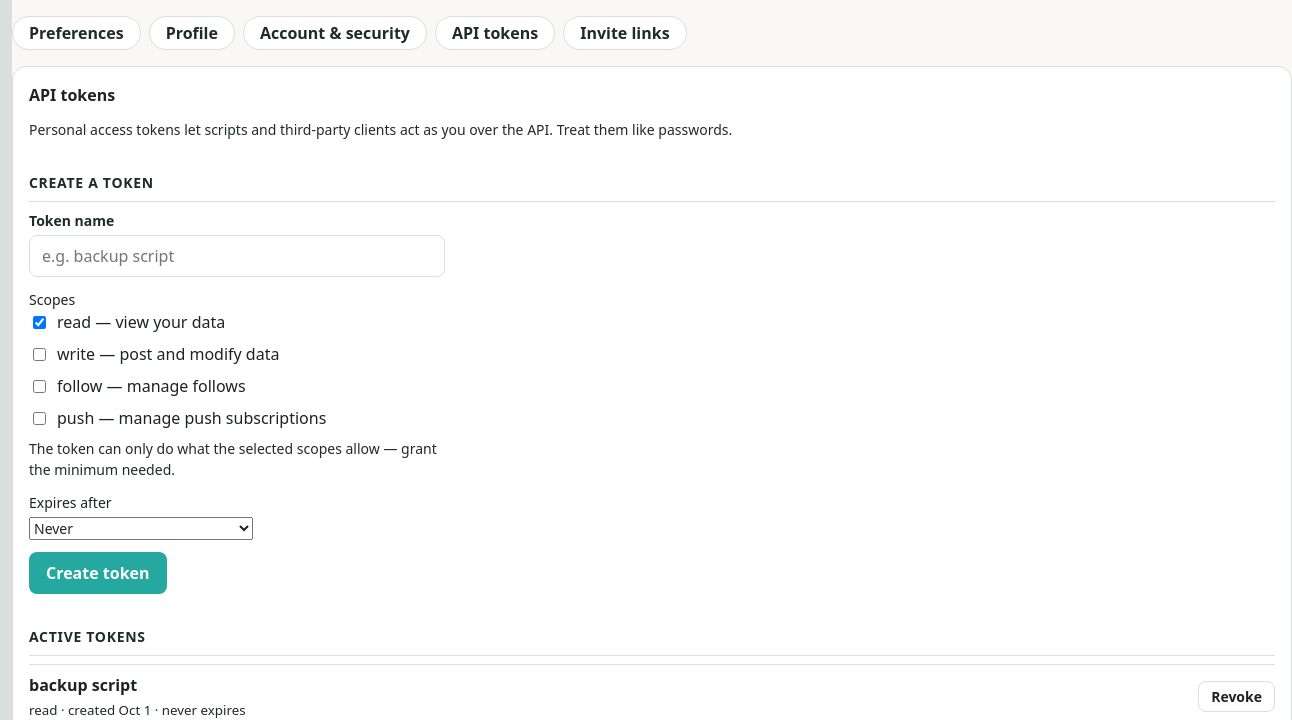
TokensSettingsPage › creates a token and reveals the plaintext once
Type "ci" into the field labelled "Token name".
click(237, 256); type("ci")  # box x1=29 y1=235 x2=445 y2=277
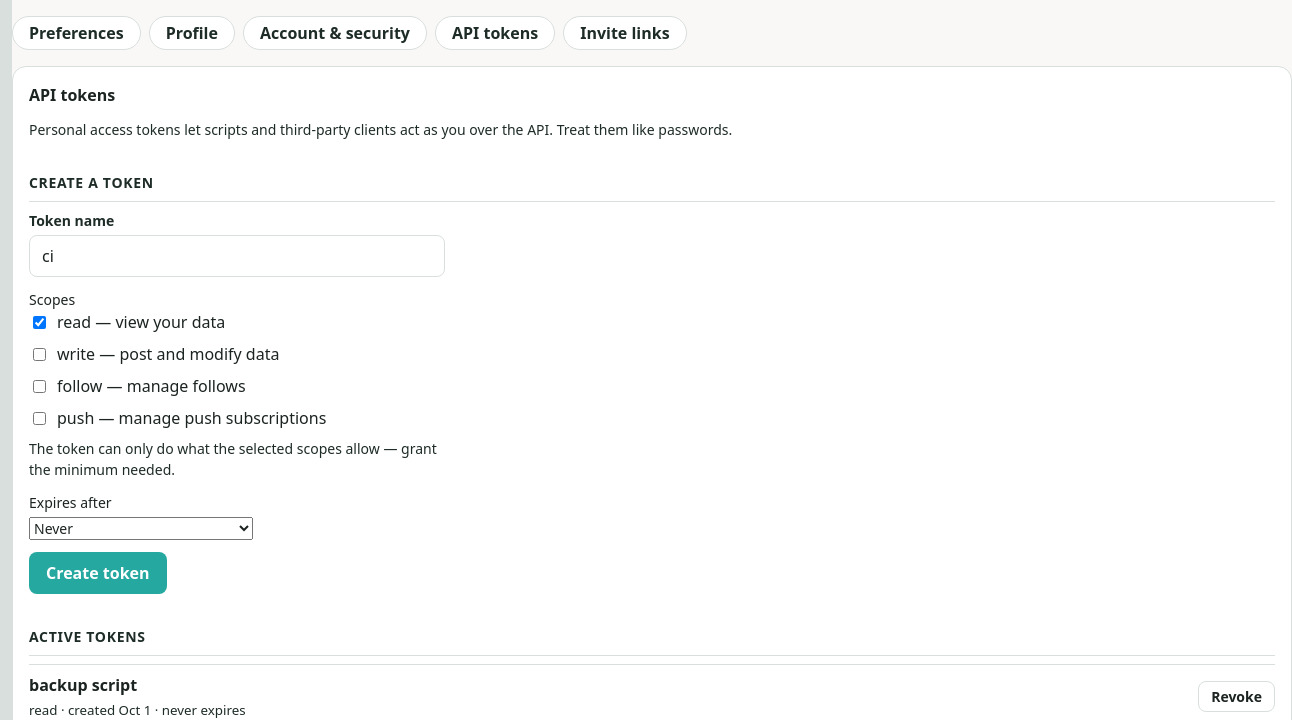
Click the checkbox labelled "write — post and modify data".
click(40, 354)  # box x1=33 y1=348 x2=46 y2=360
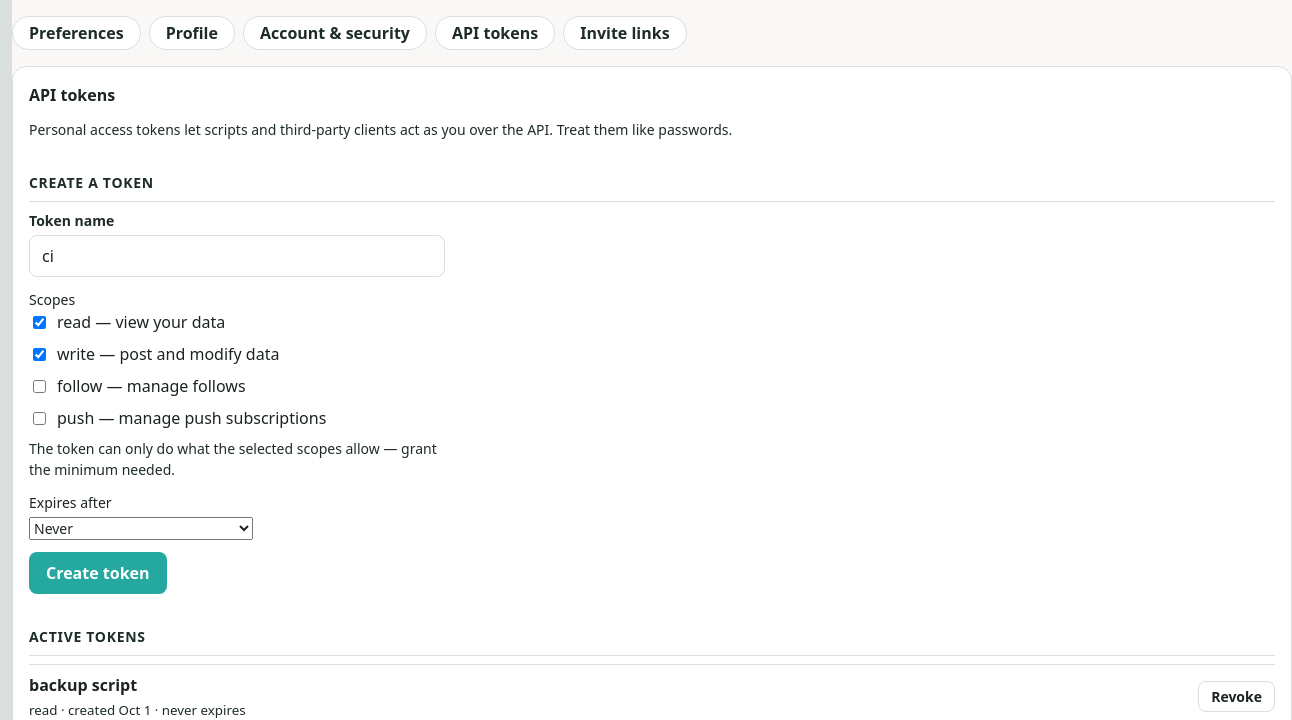
Submit the form with class "tokens__form", box x1=29 y1=210 x2=445 y2=594
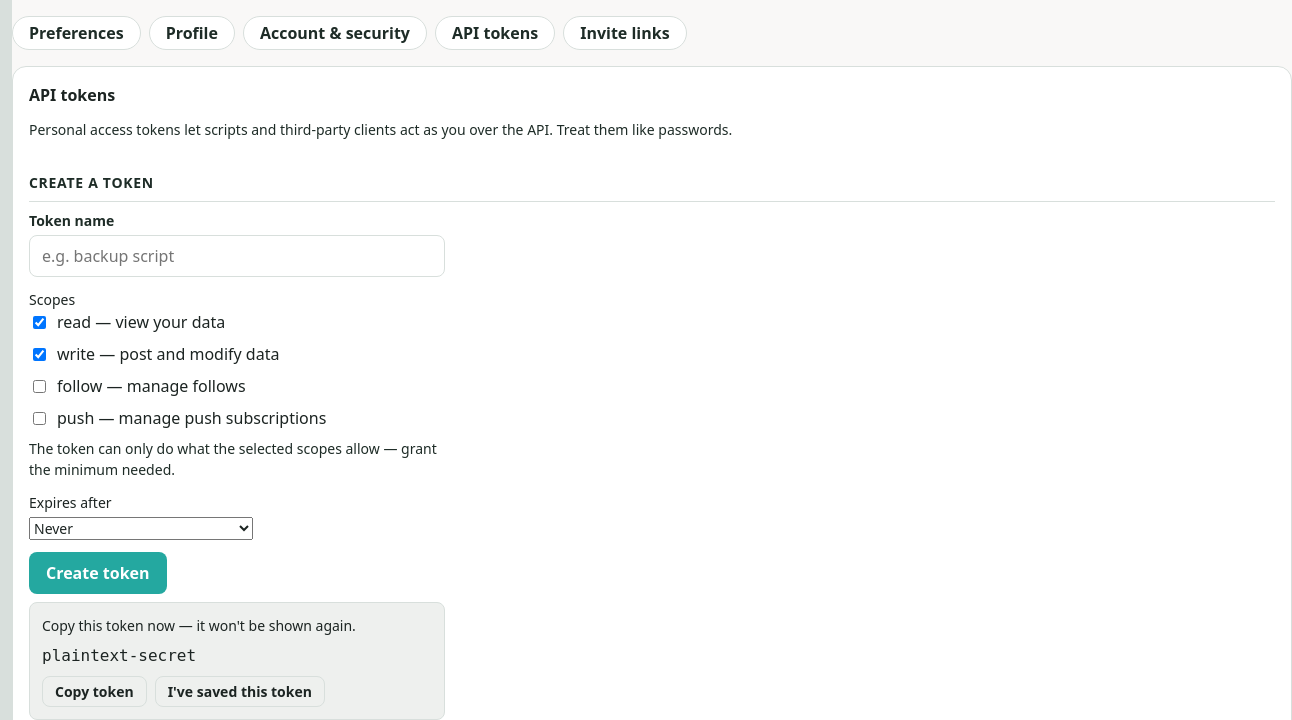
Expected: the text with class "tokens__secret" reads "plaintext-secret", x1=42 y1=646 x2=196 y2=665
